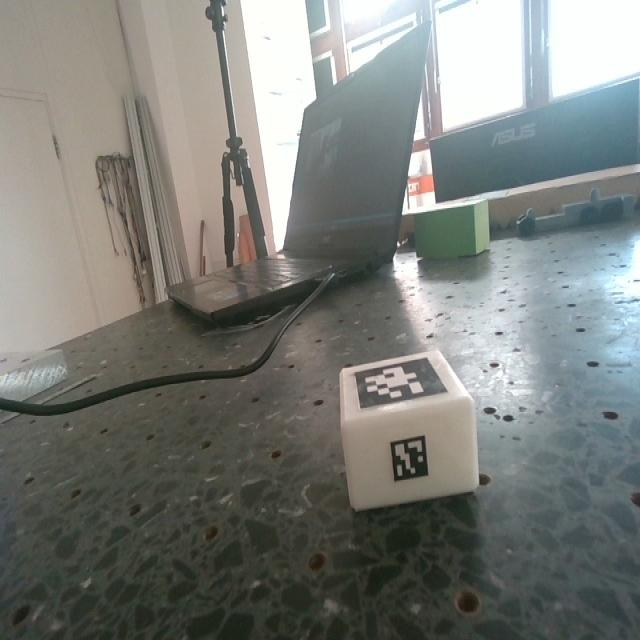Cube: (337, 344, 478, 509)
